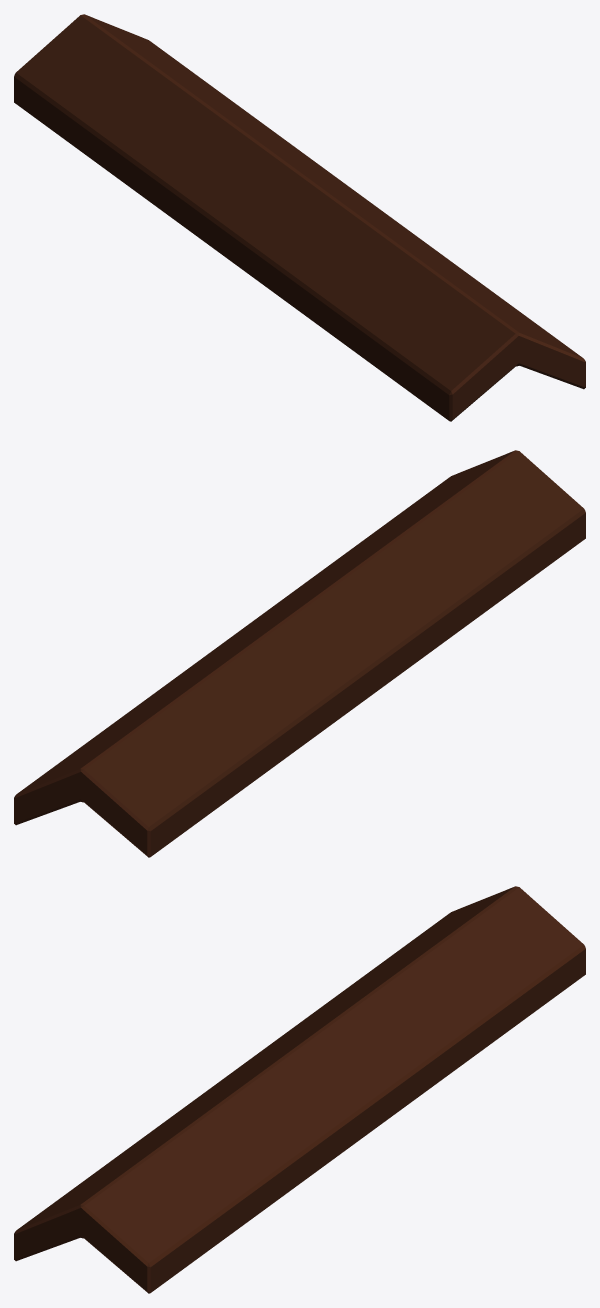
File: QH_Roof_Ridge_2m.fbx
The picture shows the model from 3 angles, top to bottom: view 1: azimuth 30°, elevation 25°; view 2: azimuth 150°, elevation 25°; view 3: azimuth 330°, elevation 25°; orthographic projection.
Parts seen in each view (by area): view 1: QH_Roof_Ridge_2m; view 2: QH_Roof_Ridge_2m; view 3: QH_Roof_Ridge_2m.
Boxes of the visible parts, box(x1,y1,x2,y2) form: QH_Roof_Ridge_2m: box(14, 14, 585, 421); QH_Roof_Ridge_2m: box(14, 450, 585, 857); QH_Roof_Ridge_2m: box(14, 886, 585, 1293).
Bounding box in the file's own units: 0.36 × 0.1818 × 2.
